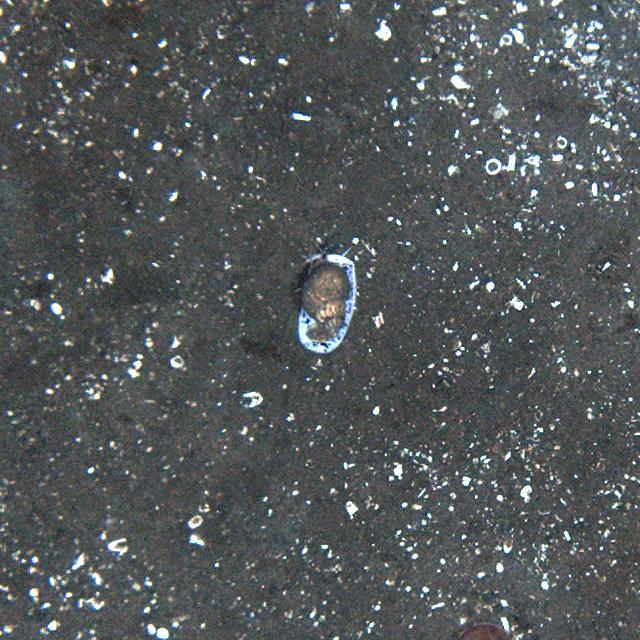whelk: (304, 260, 350, 342)
